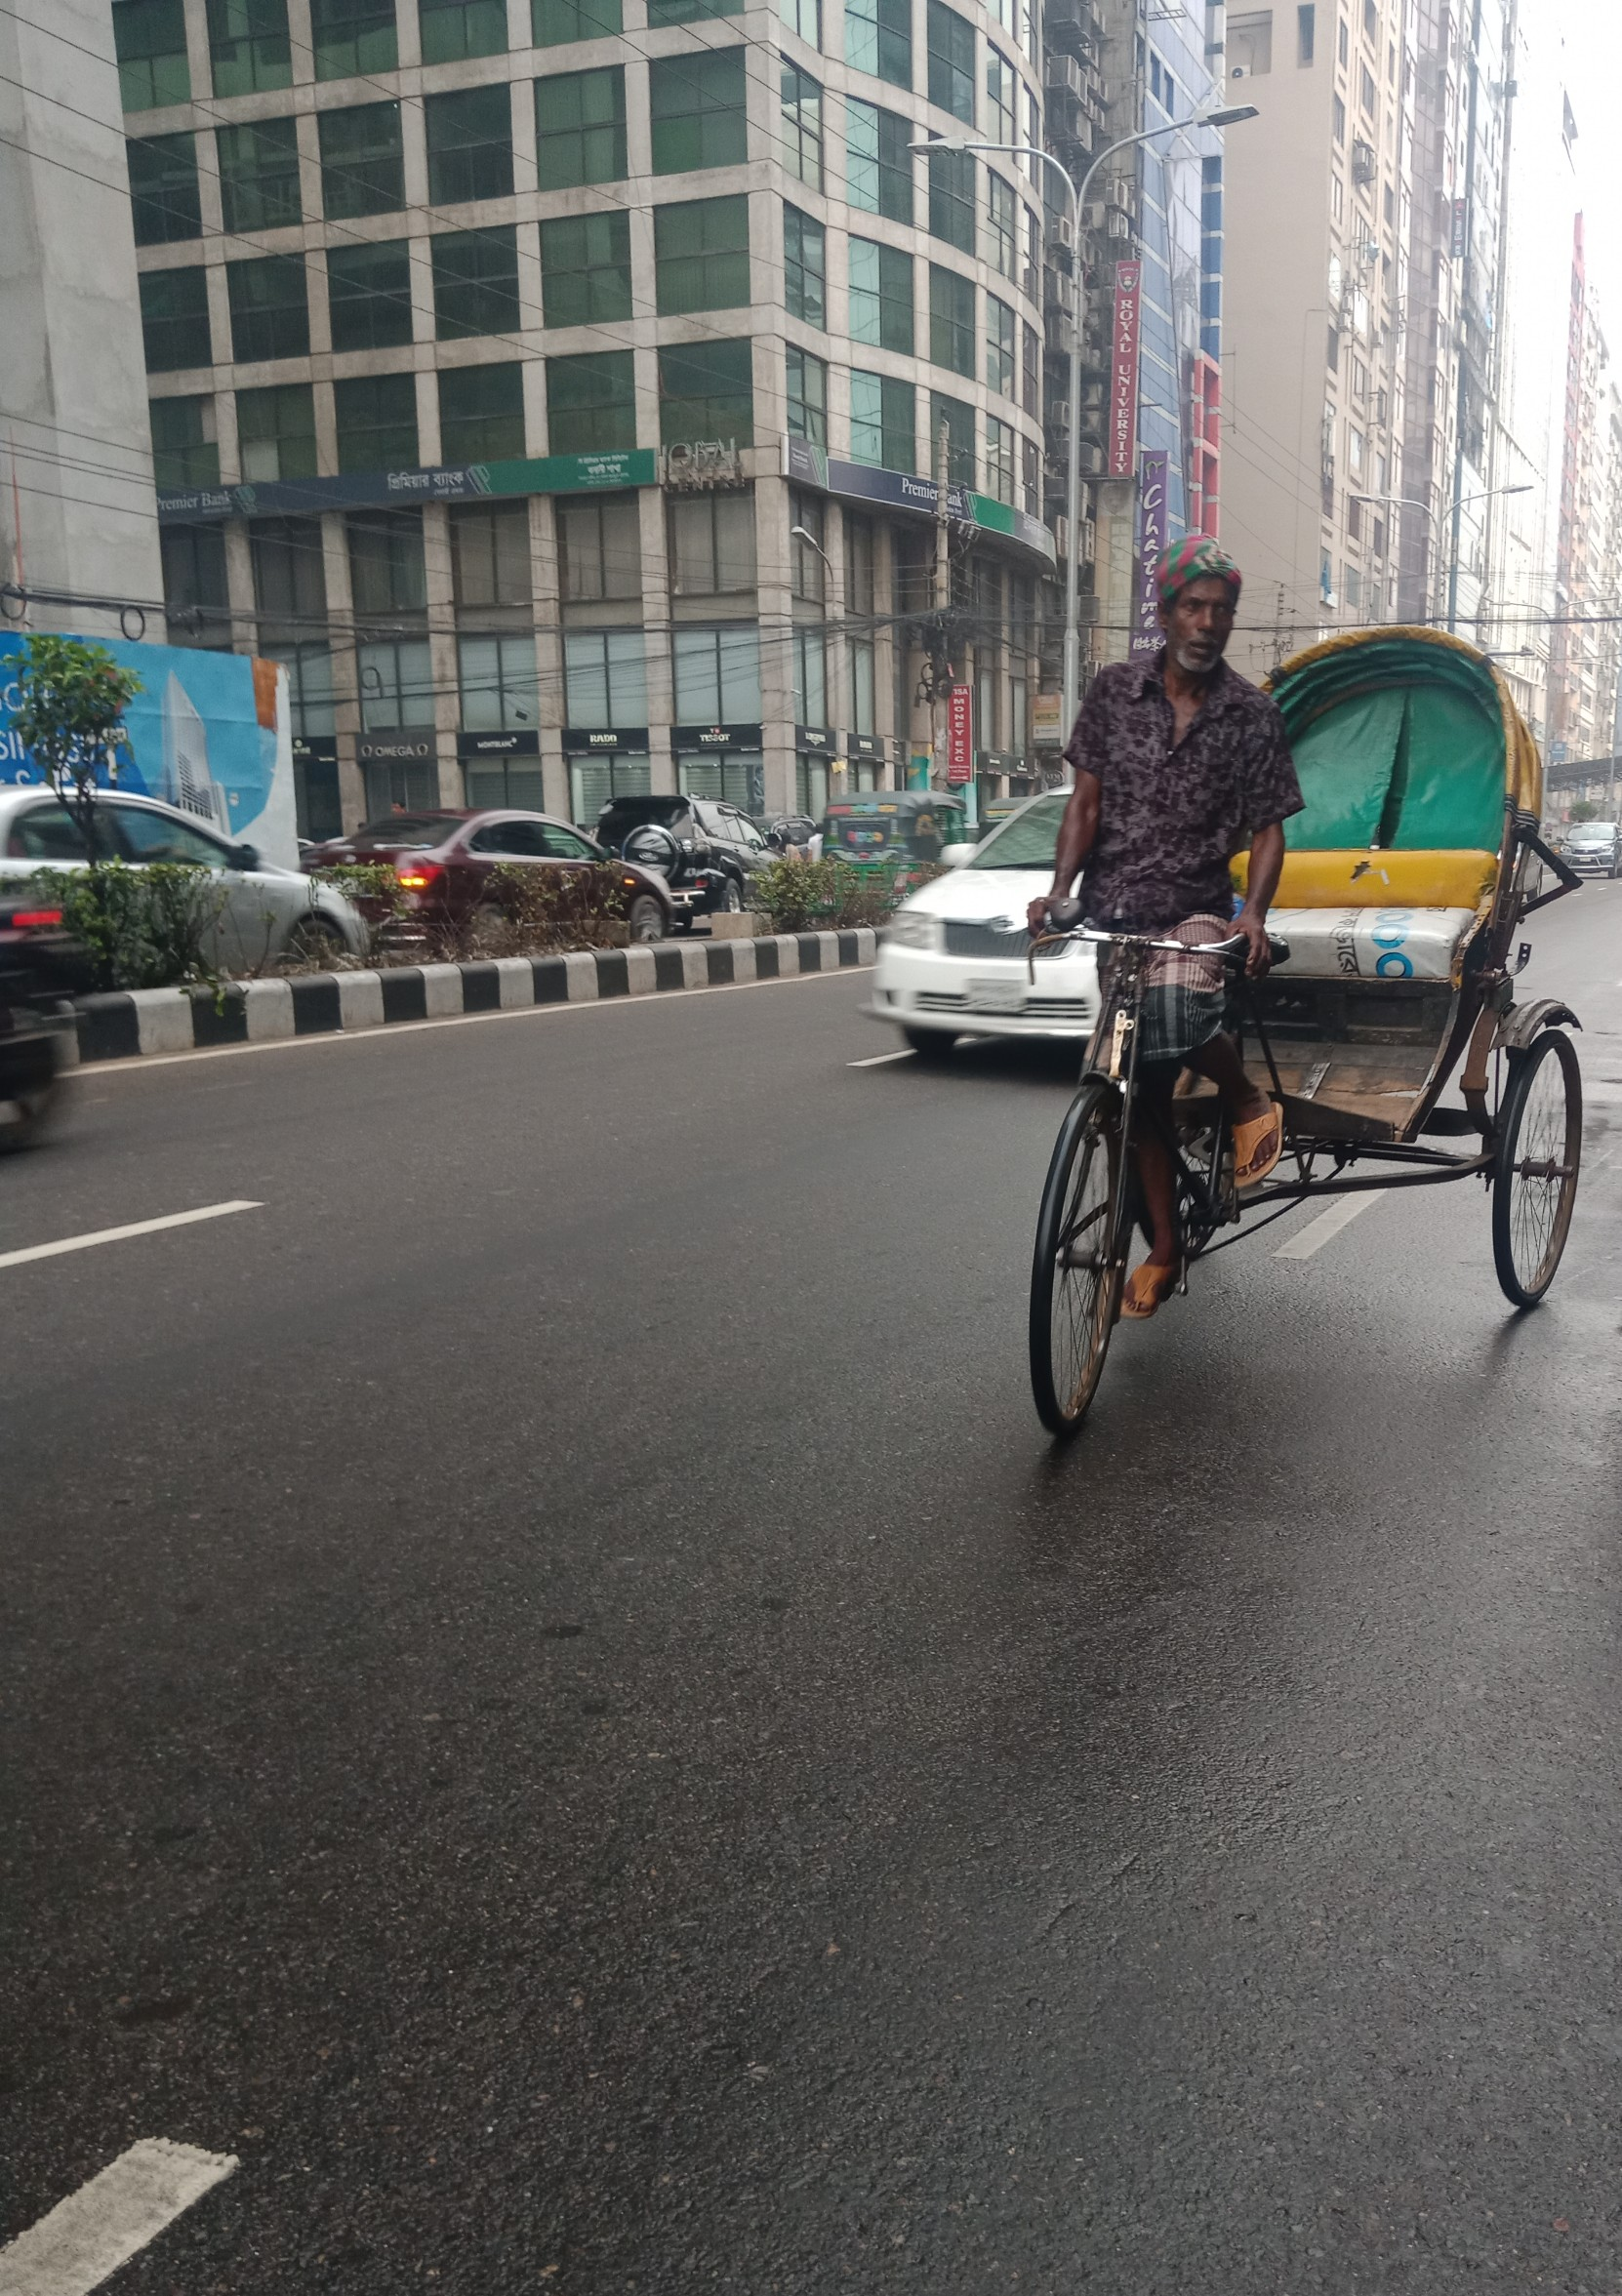Rickshaw: (937, 602, 1618, 1438)
